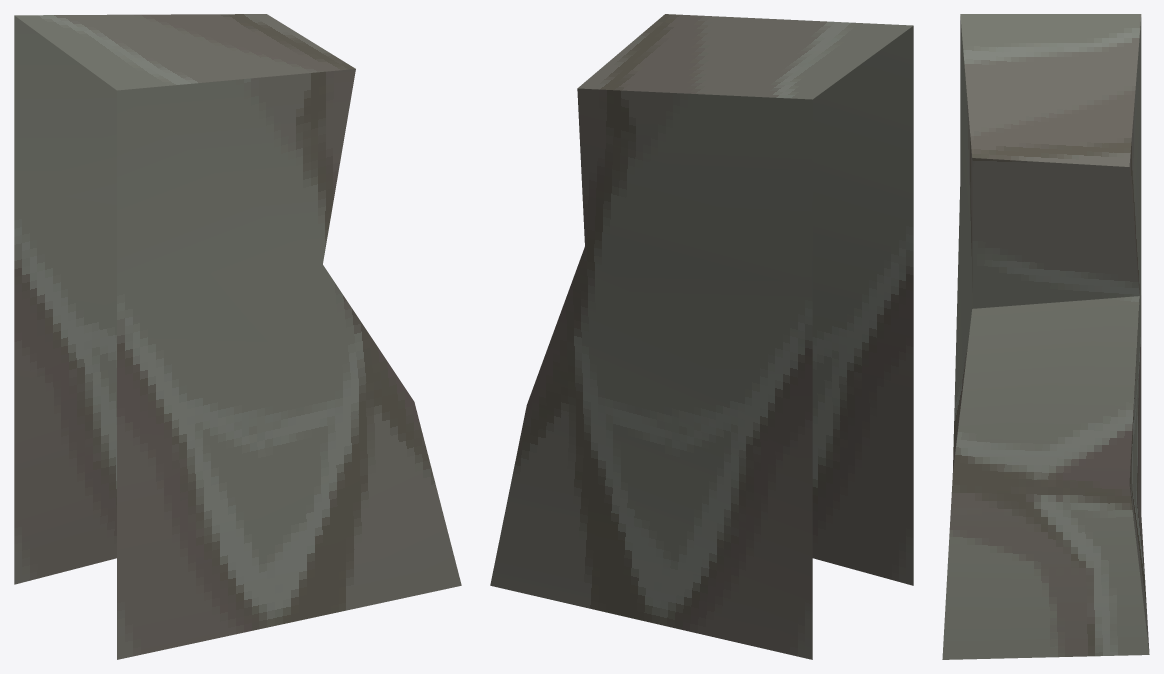
Rendered from wall_end.glb.
3 views of the same model, side by side, from view 1: azimuth 30°, elevation 25°; view 2: azimuth 150°, elevation 25°; view 3: azimuth 270°, elevation 25° (orthographic). The views are drawn at different scales.
Parts seen in each view (by area): view 1: wall_end; view 2: wall_end; view 3: wall_end.
Part boxes in pixels (x1=…): wall_end: x1=14, y1=14, x2=461, y2=659; wall_end: x1=490, y1=14, x2=913, y2=659; wall_end: x1=942, y1=14, x2=1149, y2=659.
Bounding box in the file's own units: 0.6807 × 1.11 × 0.4137.
Materials: 1 (1 with a texture image).
